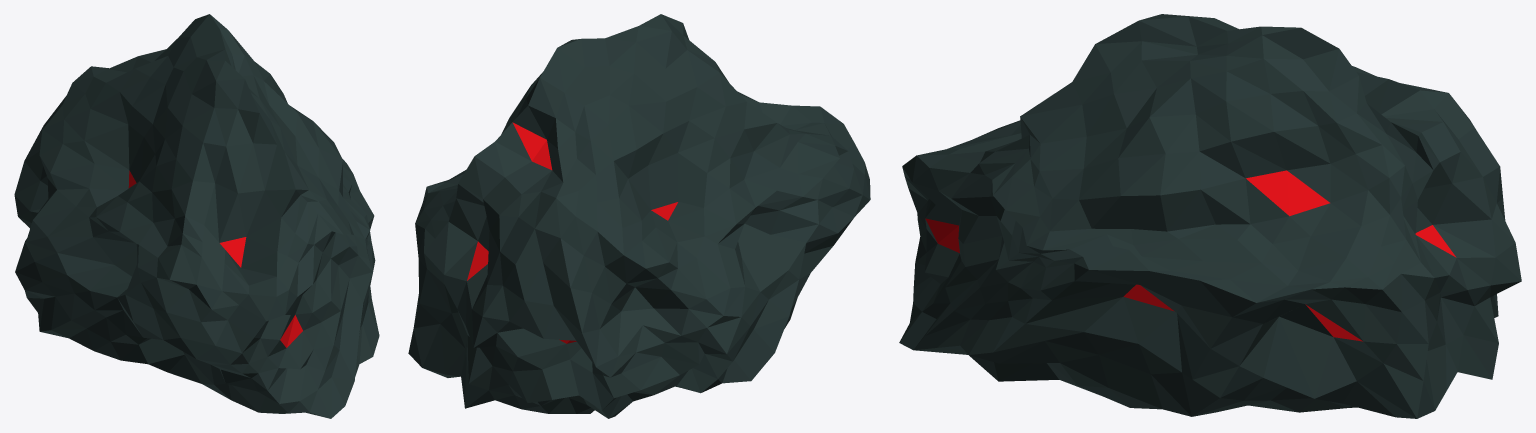
Rendered from Metal asteroid 1.fbx.
The picture shows the model from 3 angles, left to right: view 1: azimuth 30°, elevation 25°; view 2: azimuth 150°, elevation 25°; view 3: azimuth 270°, elevation 25°; orthographic projection. The views are drawn at different scales.
Parts seen in each view (by area): view 1: Icosphere; view 2: Icosphere; view 3: Icosphere.
Part boxes in pixels (box(x1,y1,x2,y2)): Icosphere: box(14, 14, 379, 418); Icosphere: box(408, 14, 870, 418); Icosphere: box(899, 14, 1521, 418).
Bounding box in the file's own units: 221 × 223 × 323.
